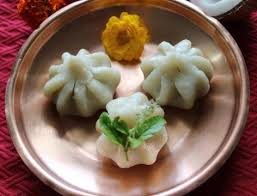modak: (46, 49, 120, 113), (142, 42, 213, 102)
